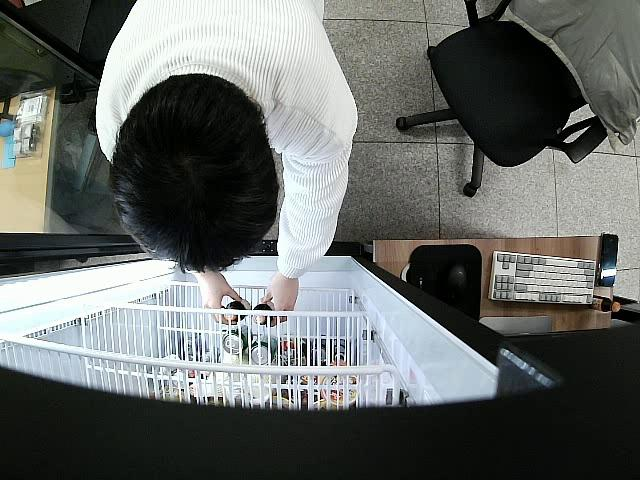00_hand: (196, 273, 243, 324), (260, 277, 299, 326)
17_vita500: (223, 300, 246, 323), (253, 301, 273, 327)
